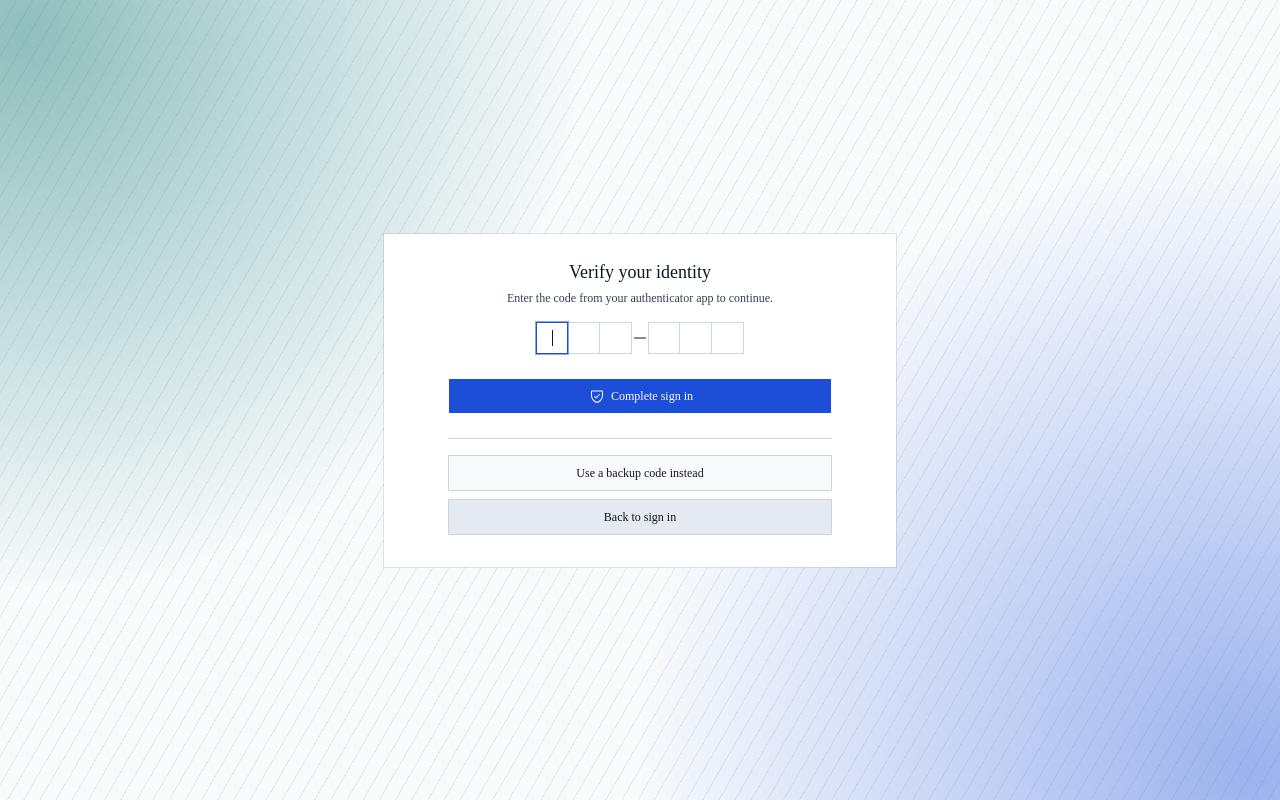
Test case: auth forms › reveals backup-code entry from the secondary recovery action
The image size is (1280, 800).
Expected: the field named "Authenticator code" is shown, [432,322,888,354]
Click the button "Use a backup code instead". click: point(640, 472)
box: [448,454,832,490]
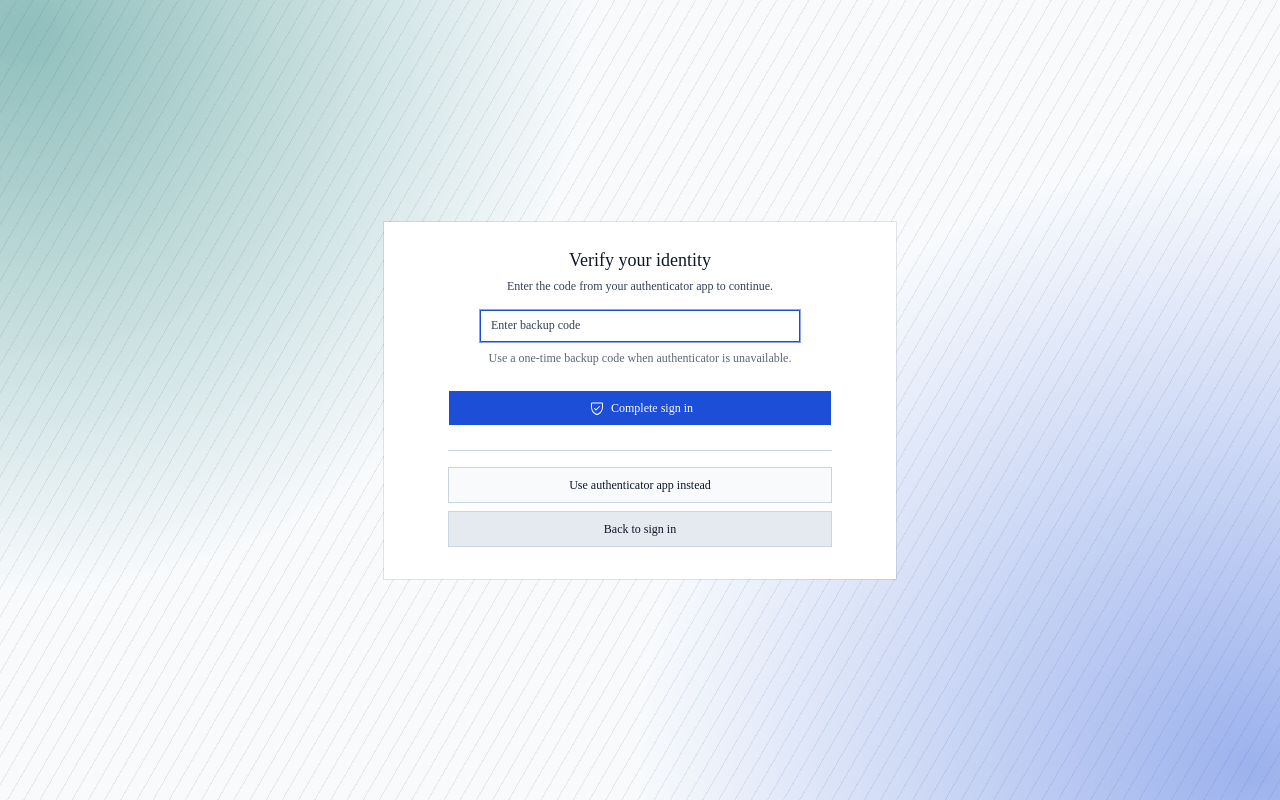
Expected: the field labelled "Authenticator code" is not shown
Now the field labelled "backup code" is shown, box [480,310,800,342]
